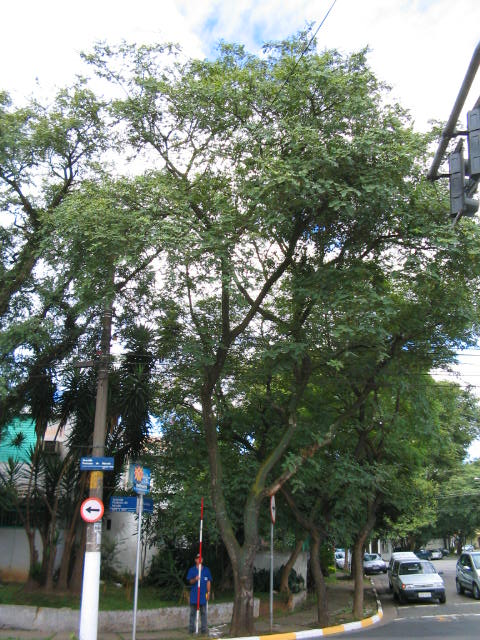crown: (56, 28, 438, 401)
stem: (214, 562, 266, 635)
stick: (191, 495, 206, 637)
tree: (53, 27, 439, 634)
